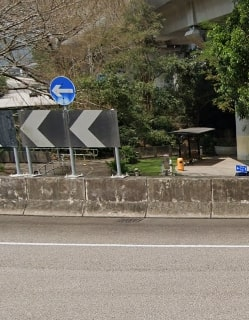Turn Left: (50, 75, 77, 104)
Turn Left(quick): (20, 106, 119, 155)
